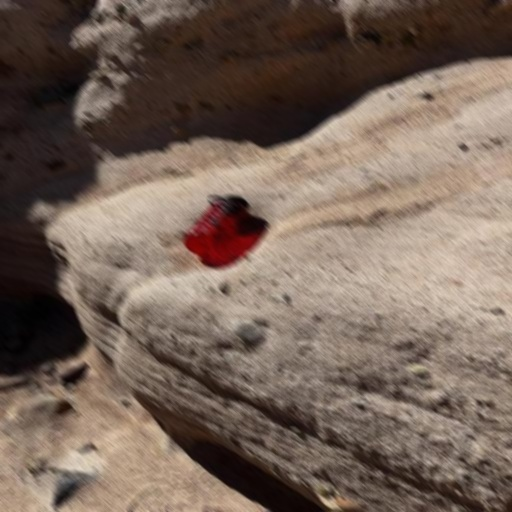bottle: (184, 195, 249, 258)
